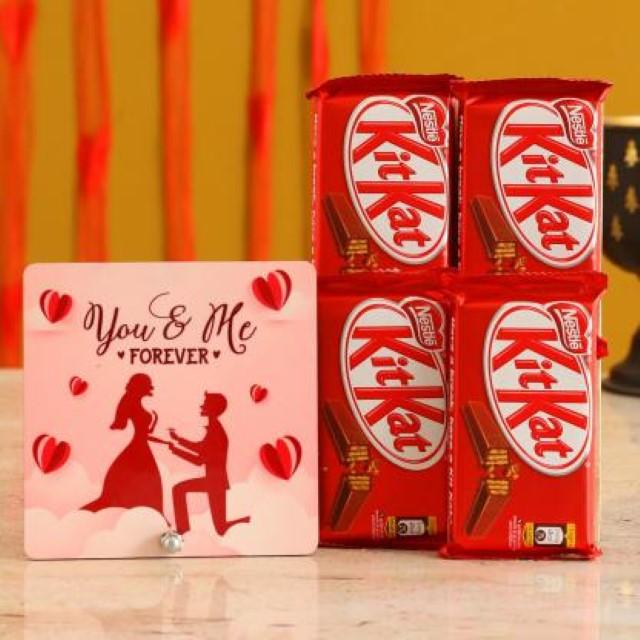kitkat_chocolate: (470, 288, 605, 548), (315, 290, 452, 543), (465, 75, 605, 277), (328, 82, 447, 268)
